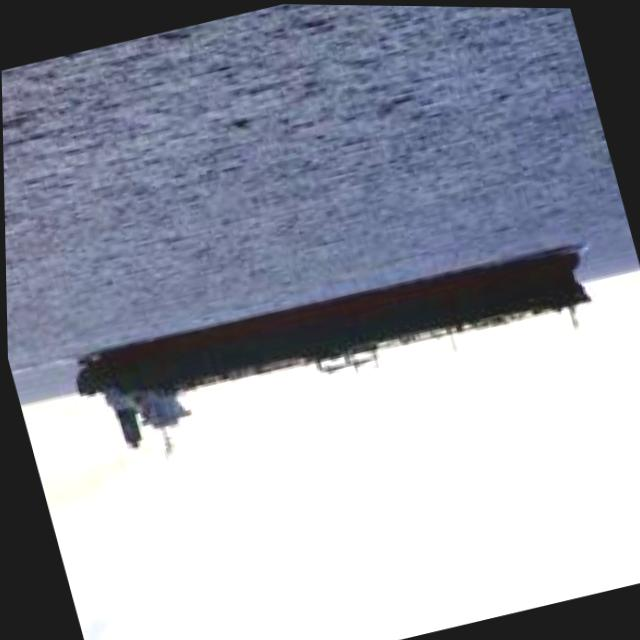ship2: (76, 243, 593, 467)
